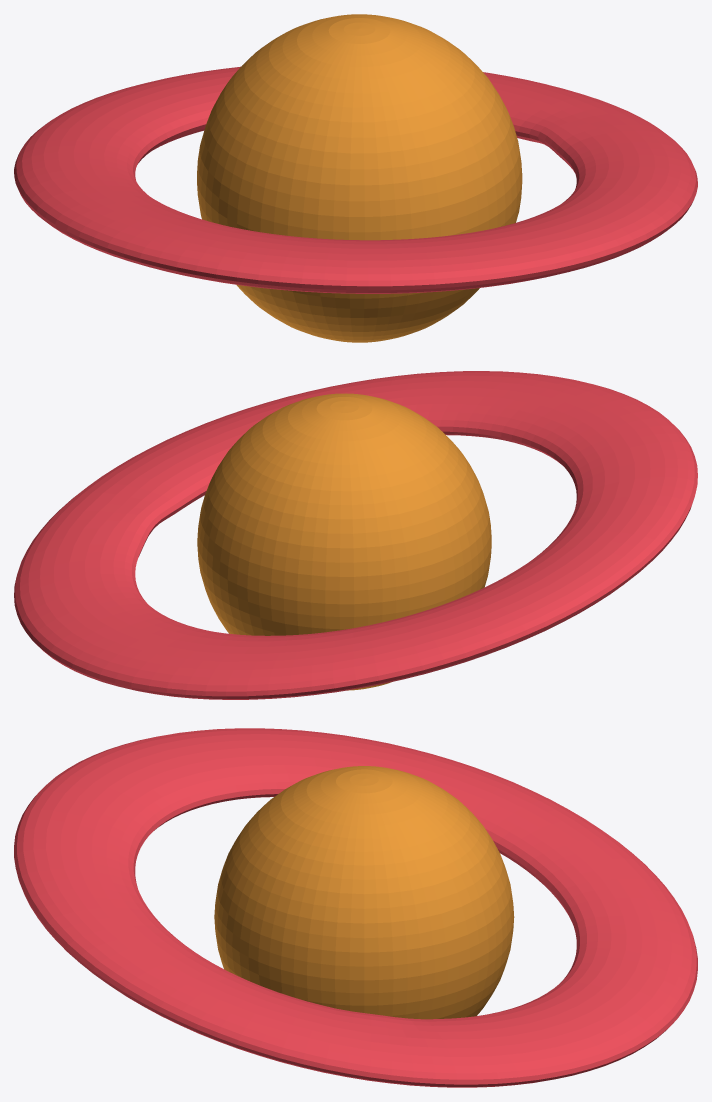
Rendered from planetanillo.gltf.
The picture shows the model from 3 angles, top to bottom: view 1: azimuth 30°, elevation 25°; view 2: azimuth 150°, elevation 25°; view 3: azimuth 270°, elevation 25°; orthographic projection. The views are drawn at different scales.
Visible parts, largest first — view 1: Sphere, Ring; view 2: Ring, Sphere; view 3: Ring, Sphere.
Boxes of the visible parts, bbox=[...] form: Sphere: bbox=[197, 14, 522, 342]; Ring: bbox=[14, 66, 697, 293]; Ring: bbox=[14, 371, 697, 699]; Sphere: bbox=[197, 393, 491, 690]; Ring: bbox=[14, 728, 697, 1087]; Sphere: bbox=[214, 766, 514, 1019].
Size of the model in its own units: 4.35 by 2.02 by 4.54.
